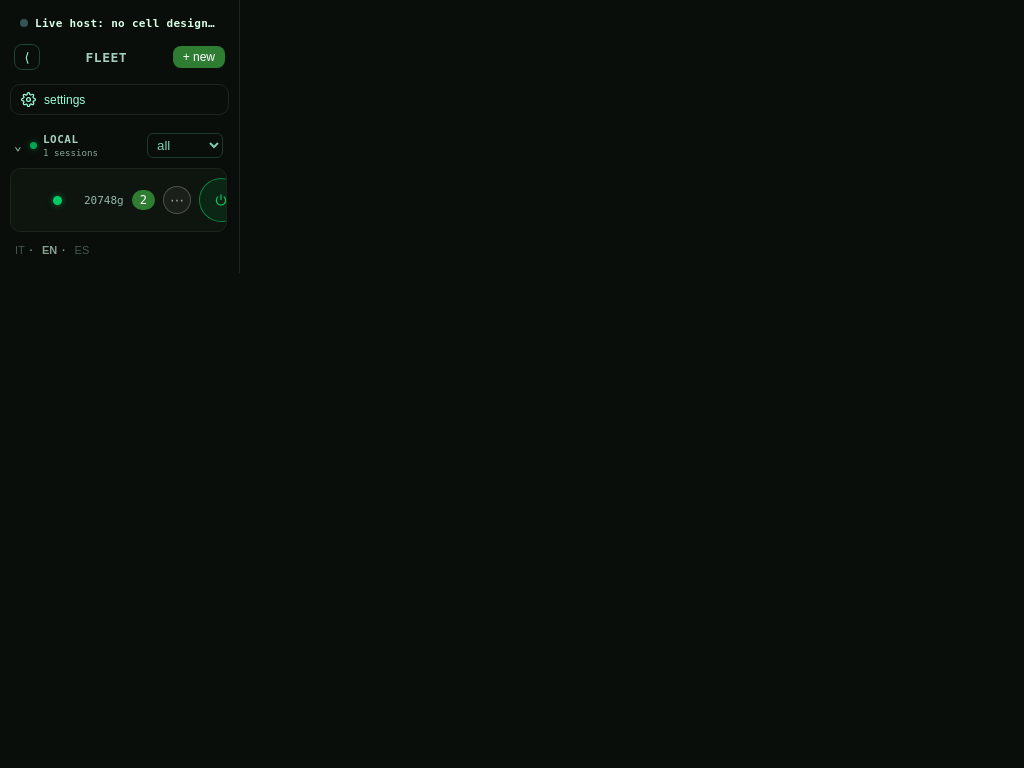
Scenario: Menu azioni (⋯) nella riga sidebar › «Watch live» apre il peek in sorgente Flusso (stream)
What coordinates should you click on to do the following:
click the button named "Cell actions: Local Cell"
I would click on:
 (177, 200)
Its box is [163, 186, 191, 214].
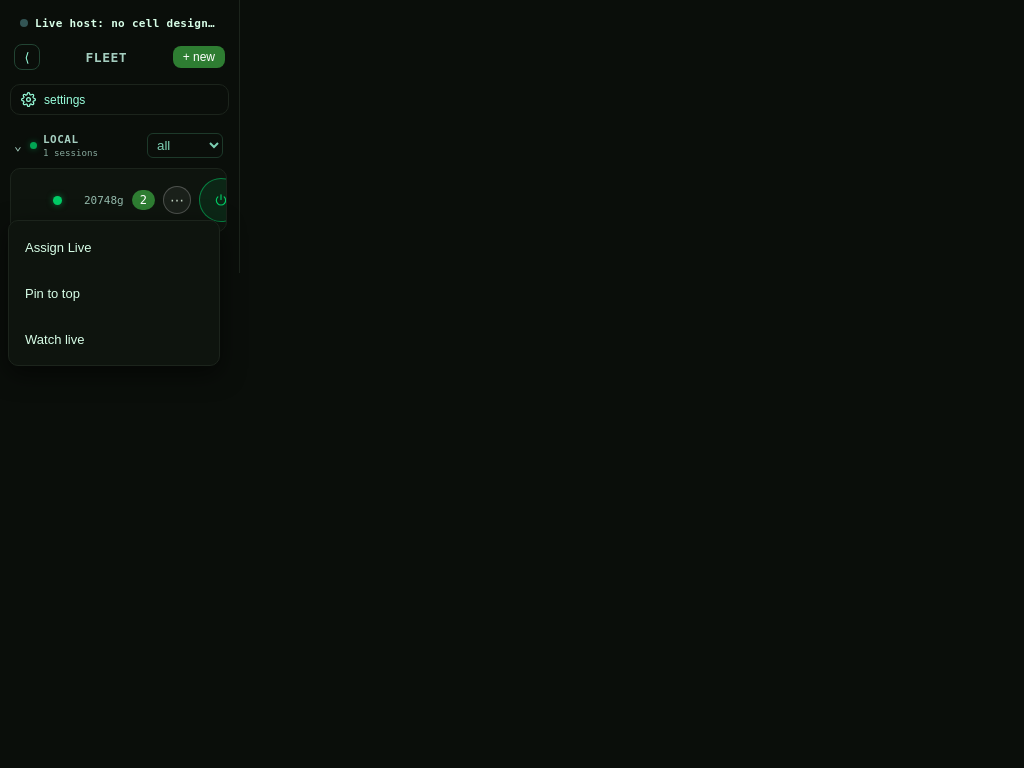
What coordinates should you click on to do the following:
click the menu item "Watch live"
I would click on:
 (114, 339)
Its box is [13, 317, 215, 361].
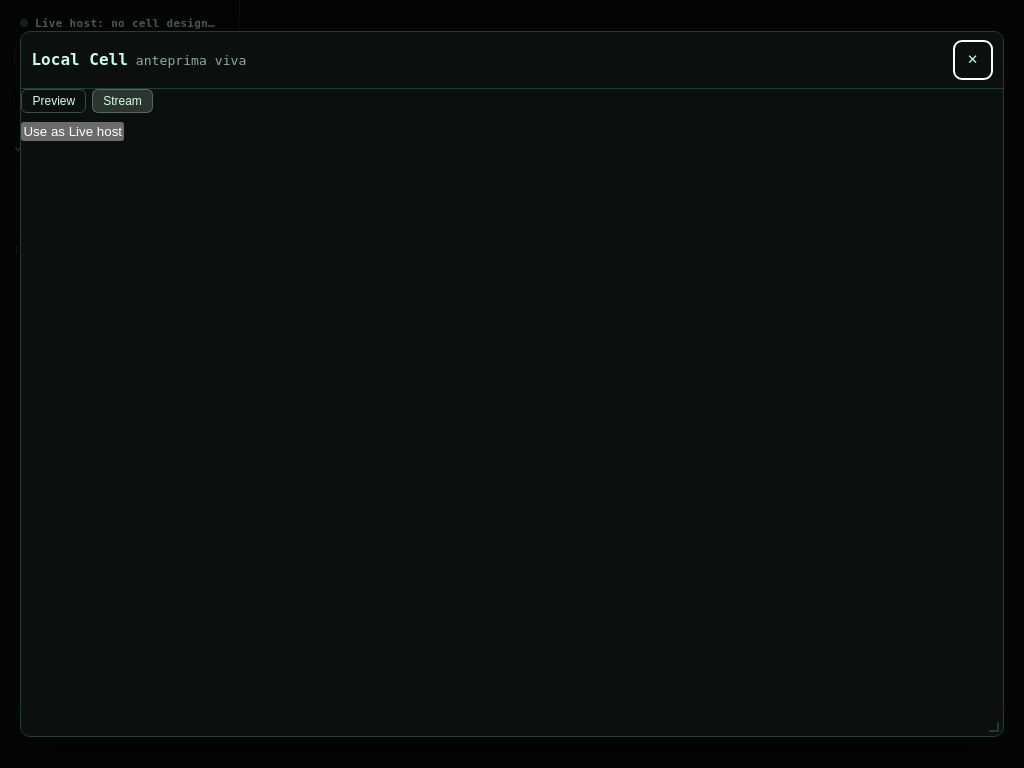
Now the dialog "Local Cell" is shown
